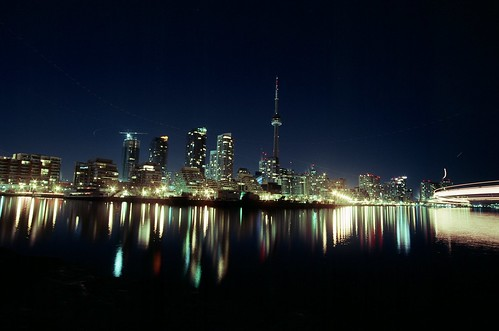building: (264, 70, 287, 177), (1, 148, 63, 185), (207, 132, 236, 184), (74, 161, 121, 190), (116, 137, 145, 184), (145, 132, 170, 185), (187, 127, 208, 190), (351, 171, 381, 193), (392, 176, 416, 191)
river: (1, 211, 467, 331)
sky: (1, 1, 499, 147)
